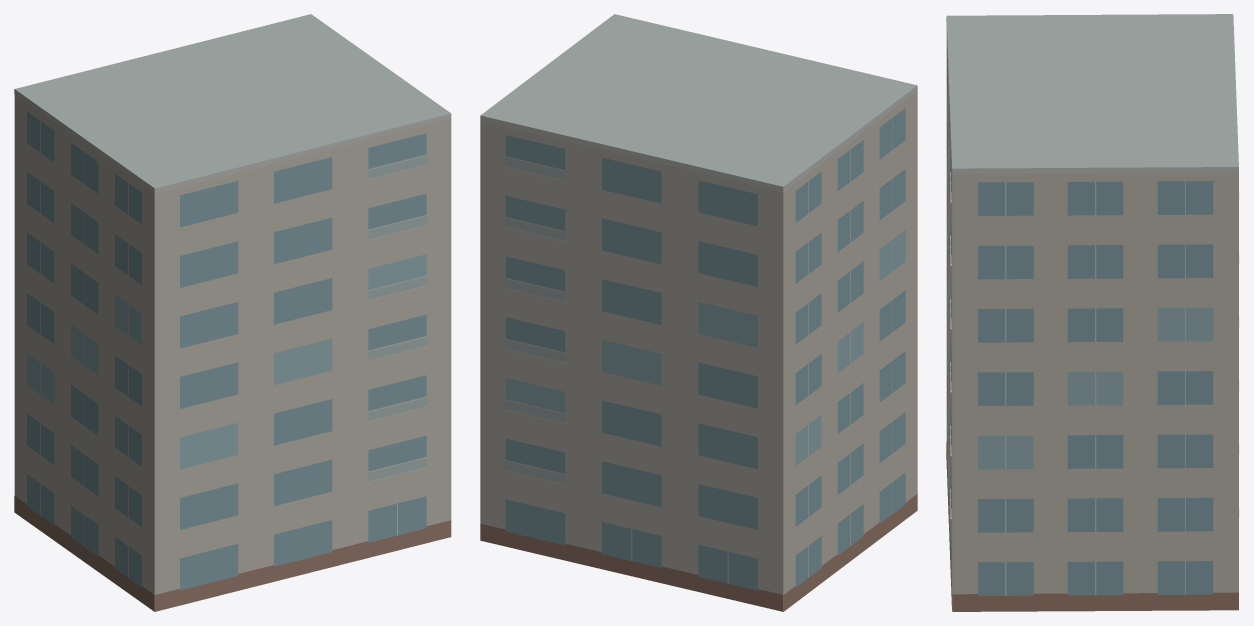
The model's file is survey-upis-32543201.glb.
3 views of the same model, side by side, from view 1: azimuth 30°, elevation 25°; view 2: azimuth 150°, elevation 25°; view 3: azimuth 270°, elevation 25° (orthographic). The views are drawn at different scales.
Parts seen in each view (by area): view 1: survey-upis-32543201.tmp; view 2: survey-upis-32543201.tmp; view 3: survey-upis-32543201.tmp.
Part boxes in pixels (left/top/right/bottom): survey-upis-32543201.tmp: left=14, top=14, right=451, bottom=611; survey-upis-32543201.tmp: left=480, top=14, right=917, bottom=611; survey-upis-32543201.tmp: left=946, top=14, right=1239, bottom=611.
Bounding box in the file's own units: 14.97 × 20 × 11.98.
